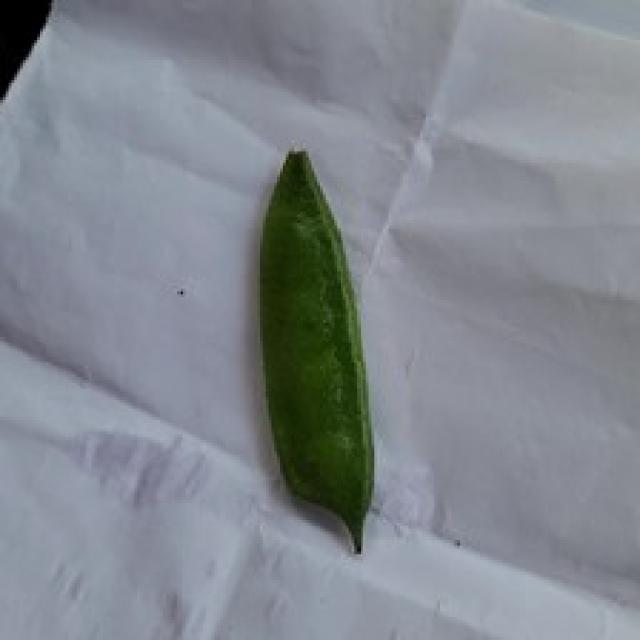Bean: (257, 146, 374, 554)
